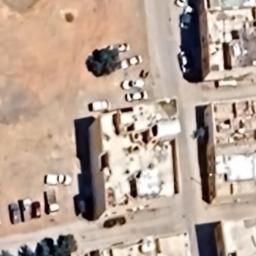SUV: (121, 77, 149, 91), (8, 200, 22, 226), (20, 198, 34, 223)
sedan: (177, 49, 196, 76), (180, 6, 196, 34), (122, 88, 152, 102), (120, 54, 144, 70)
truck: (43, 188, 60, 218)
